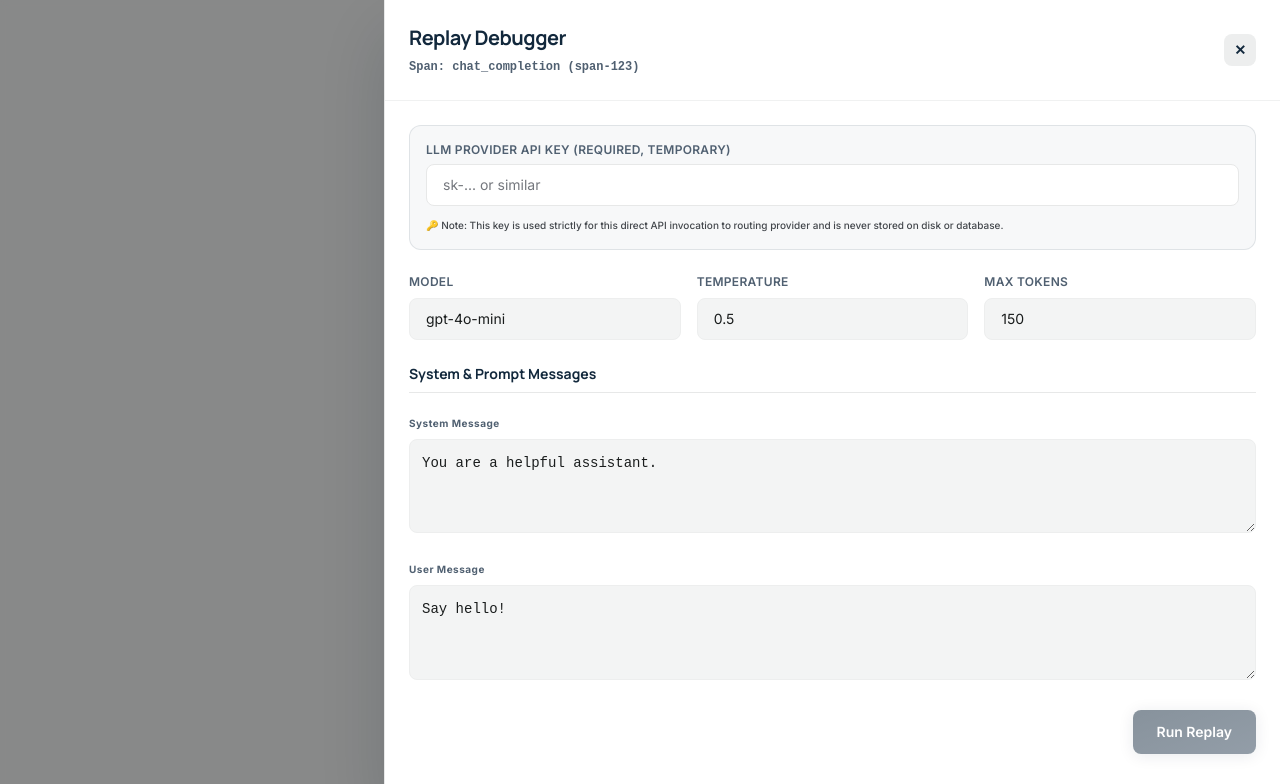
ReplayPanel Component › renders an inline error message on API failure
Put in API key
Type "bad-key" into the password field with test id "provider-key-input" at point(832, 185), box [426,164,1239,206]
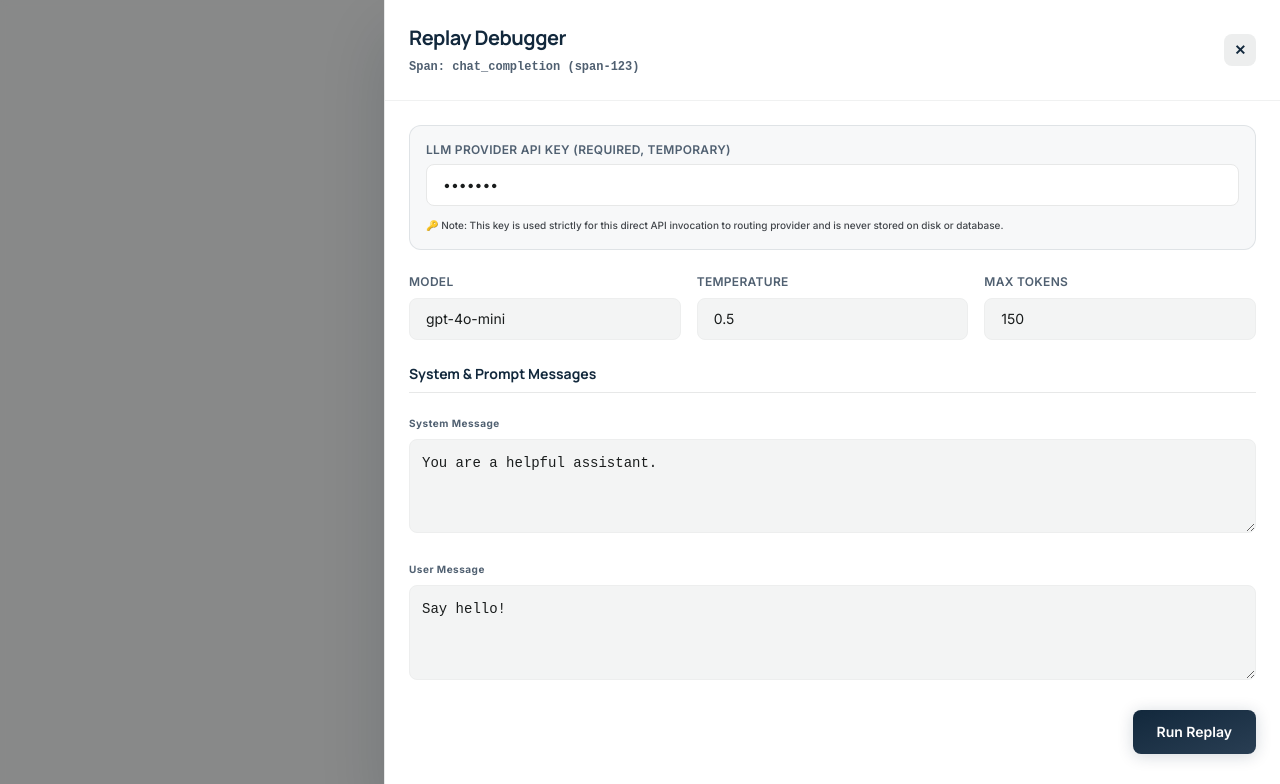
Click the button with test id "replay-submit-btn" at point(1194, 732), box [1132,710,1256,754]
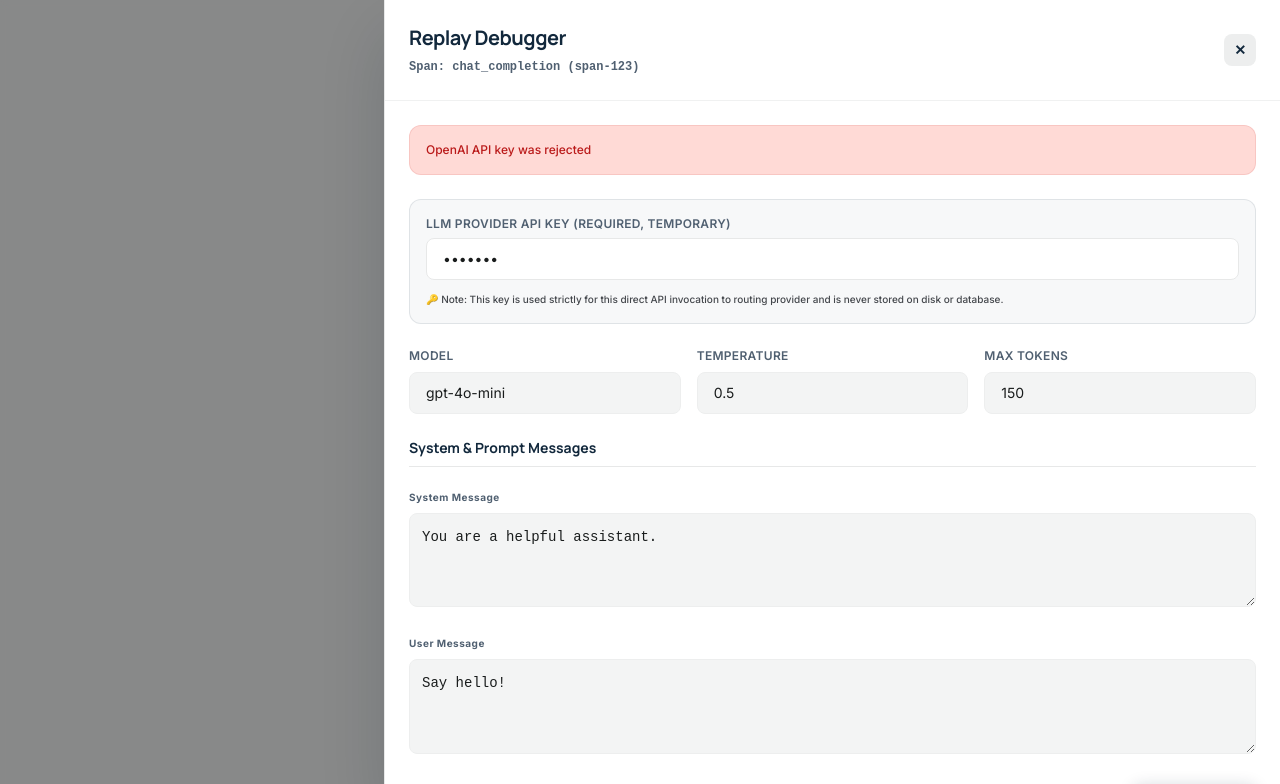
Expected: the text "OpenAI API key was rejected" is shown, [409,125,1256,175]
